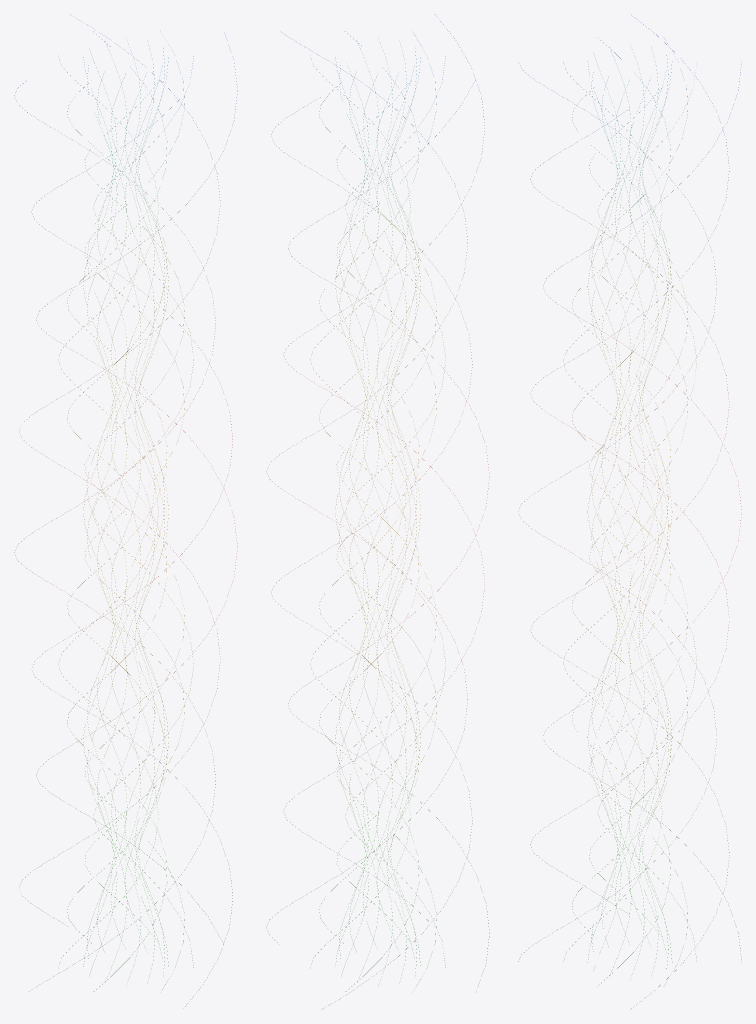
Rendered from SM_DarklineForSpline_1.FBX.
3 renders of one model, left to right at view 1: azimuth 30°, elevation 25°; view 2: azimuth 150°, elevation 25°; view 3: azimuth 270°, elevation 25°, orthographic.
Visible parts, largest first — view 1: SM_DarklineForSpline_1; view 2: SM_DarklineForSpline_1; view 3: SM_DarklineForSpline_1.
Part boxes in pixels (box(x1,y1,x2,y2)): SM_DarklineForSpline_1: box(14, 14, 237, 1006); SM_DarklineForSpline_1: box(266, 21, 489, 1008); SM_DarklineForSpline_1: box(518, 17, 741, 1008).
Bounding box in the file's own units: 44.99 × 44.99 × 200.
